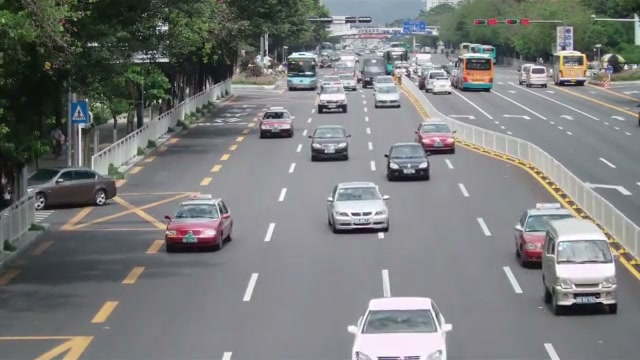bus: (451, 54, 494, 92)
car: (541, 217, 618, 316), (347, 297, 453, 359), (513, 205, 574, 270), (162, 198, 233, 253), (27, 167, 117, 210), (325, 181, 390, 234), (384, 142, 430, 182), (308, 125, 350, 162), (414, 120, 456, 154), (259, 108, 295, 139), (374, 78, 401, 109), (424, 71, 452, 94)
truck: (452, 54, 494, 92), (552, 51, 588, 86), (287, 51, 317, 91), (359, 55, 387, 87), (526, 65, 548, 88)
